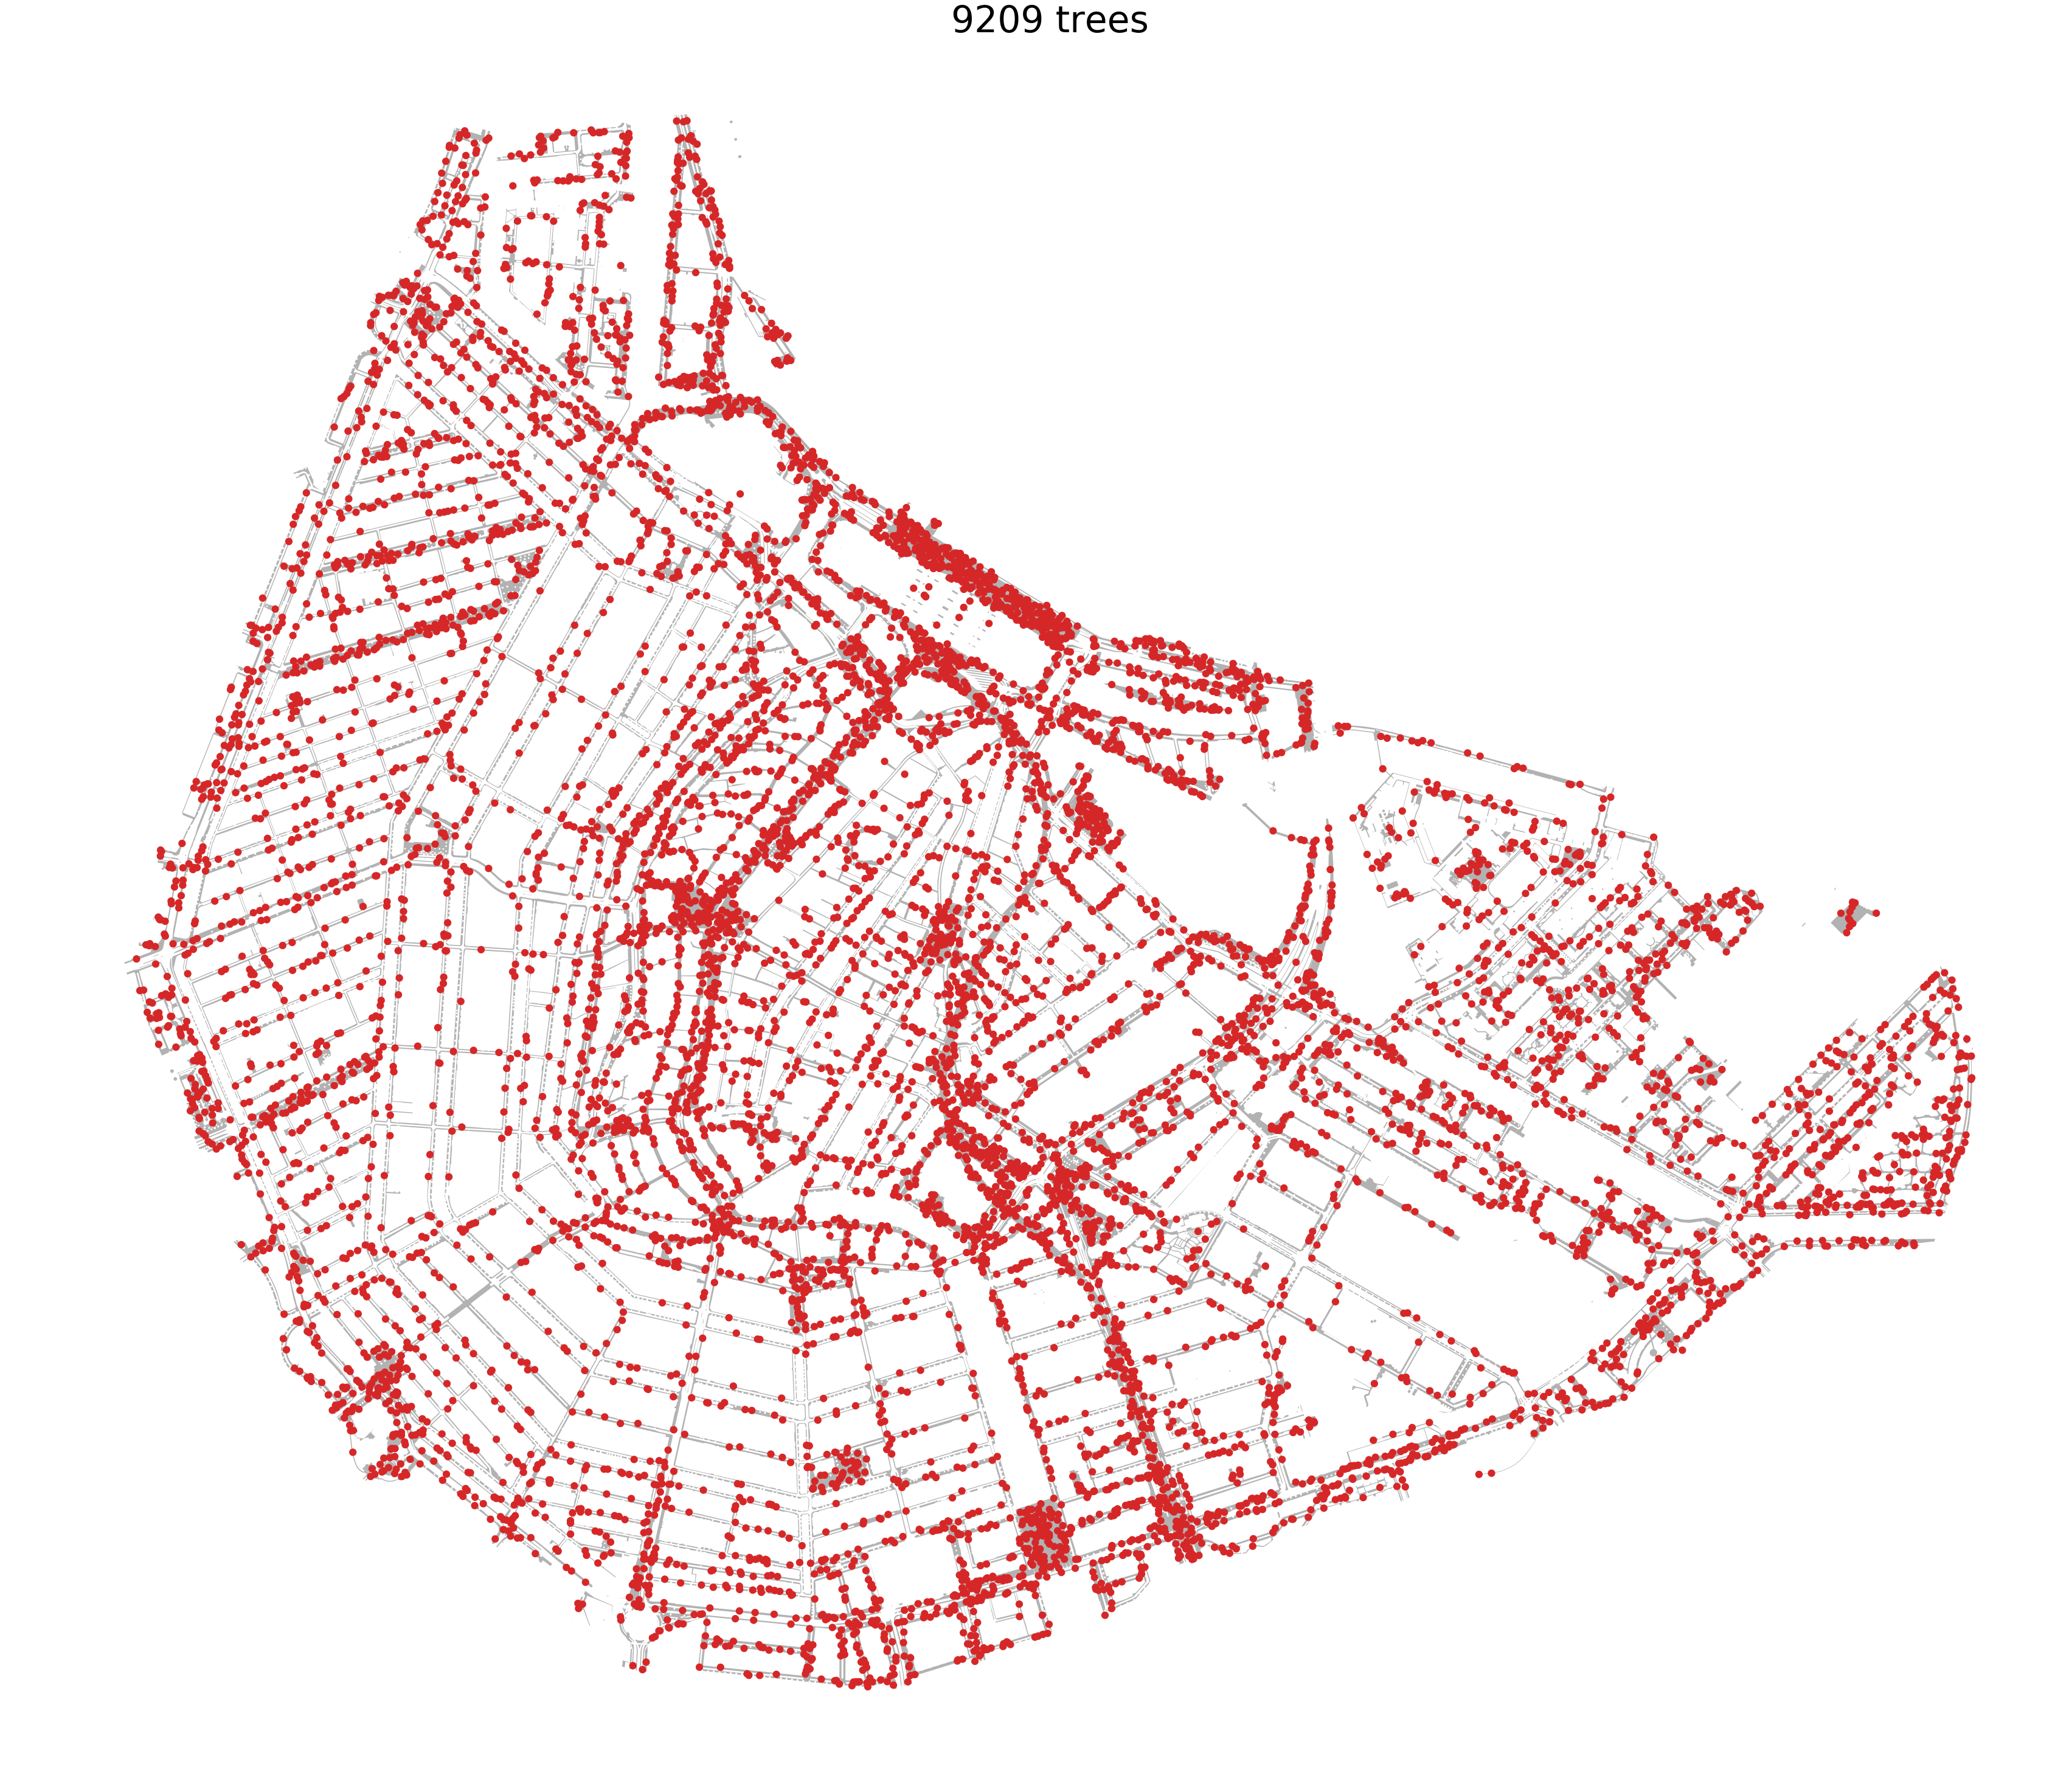

The page's visual inventory and layout, read from the dashboard file:
{"tool":"tableau","page":{"name":"Dashboard 1","canvas":[1000,1000],"units":"permille","ordinal":0},"visuals":[{"type":"worksheet","title":"pt","mark":"Line","rows":["0"],"cols":["tiny_forest_area"],"box":[10,14.6,980,970.9]},{"type":"legend","title":"pt","param":"[federated.0cbgzb50fwx32t0zqqtpc04w2hoo].[none:Calculation_1052153505004306432:n","box":[810.5,71,139.7,306]}]}

Visuals, with their boxes on the dashboard's canvas, which has no fixed pixel size, in thousandths of its width and height (x1, y1, x2, y2). These are canvas units, not pixel positions in the 2072x1784 screenshot, which may show the page scaled, cropped or inside an application window:
"pt" worksheet (Line marks): left=10, top=15, right=990, bottom=986
"pt" legend: left=810, top=71, right=950, bottom=377
